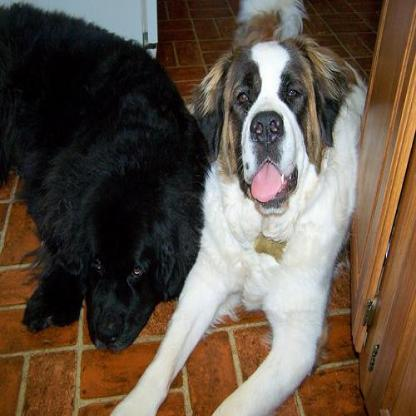Saint_Bernard: (106, 0, 366, 413)
